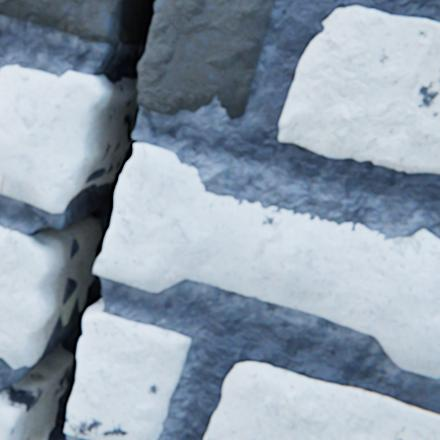brick: (278, 7, 439, 173), (203, 361, 439, 439)
broken_brick: (93, 143, 439, 377), (137, 0, 273, 118), (65, 311, 190, 439), (0, 65, 104, 212), (0, 226, 50, 367), (0, 0, 119, 43), (0, 396, 17, 439)
crack: (0, 0, 155, 439)
